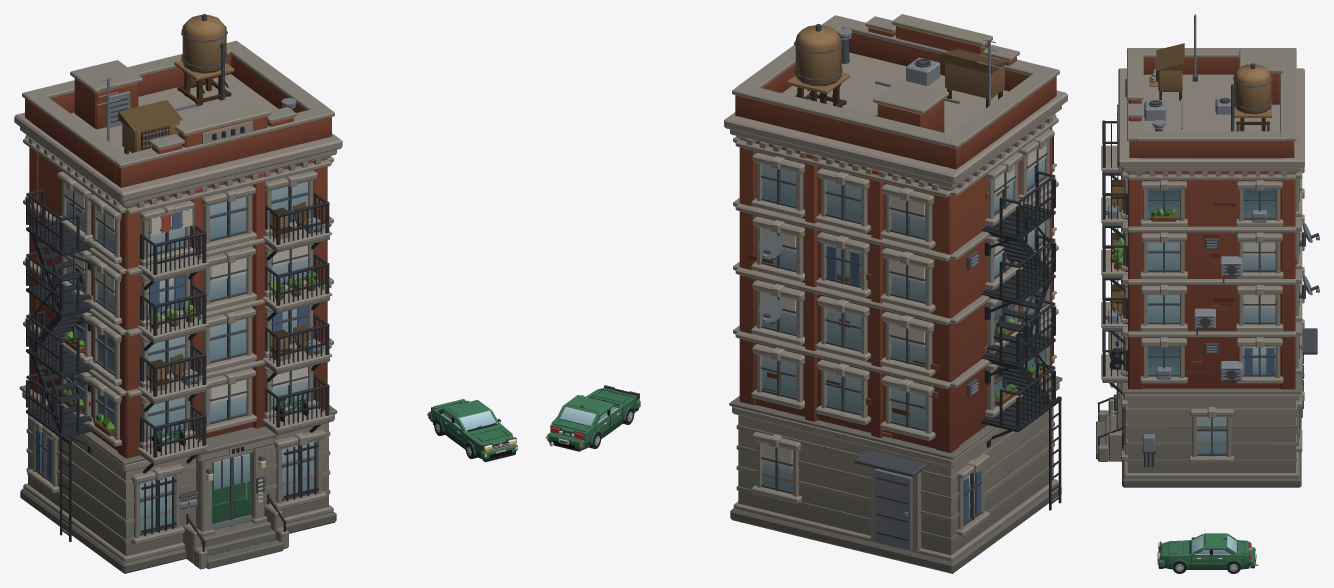
File: city-candidates.glb
The picture shows the model from 3 angles, left to right: view 1: azimuth 30°, elevation 25°; view 2: azimuth 150°, elevation 25°; view 3: azimuth 270°, elevation 25°; orthographic projection. The views are drawn at different scales.
Visible parts, largest first — view 1: apartment_block_01, car_sedan_01; view 2: apartment_block_01, car_sedan_01; view 3: apartment_block_01, car_sedan_01.
Part boxes in pixels (bbox=[...]): apartment_block_01: bbox=[14, 14, 342, 573]; car_sedan_01: bbox=[427, 399, 517, 462]; apartment_block_01: bbox=[724, 14, 1067, 573]; car_sedan_01: bbox=[546, 385, 640, 451]; apartment_block_01: bbox=[1096, 14, 1319, 487]; car_sedan_01: bbox=[1157, 533, 1258, 573].
Size of the model in its own units: 13.42 by 13.41 by 6.79.
